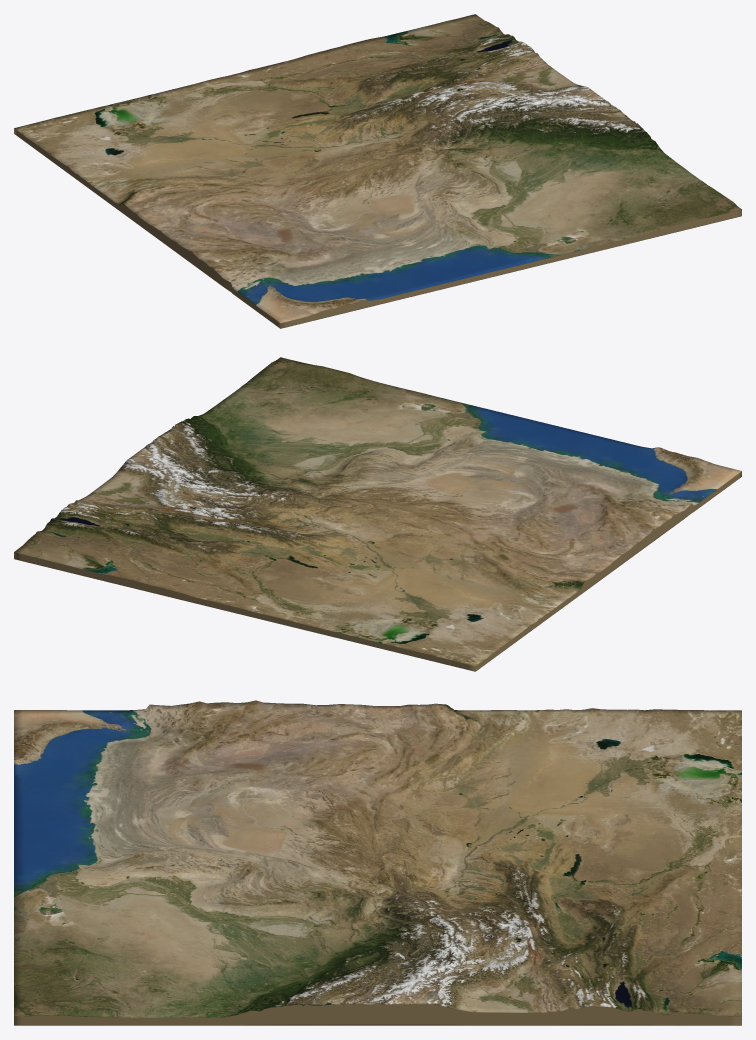
File: afganistan-web.glb
The picture shows the model from 3 angles, top to bottom: view 1: azimuth 30°, elevation 25°; view 2: azimuth 150°, elevation 25°; view 3: azimuth 270°, elevation 25°; orthographic projection. The views are drawn at different scales.
Parts seen in each view (by area): view 1: Afganistan_3D_Map_model; view 2: Afganistan_3D_Map_model; view 3: Afganistan_3D_Map_model.
Part boxes in pixels (x1=…): Afganistan_3D_Map_model: x1=14, y1=14, x2=741, y2=328; Afganistan_3D_Map_model: x1=14, y1=357, x2=741, y2=671; Afganistan_3D_Map_model: x1=14, y1=700, x2=741, y2=1025.
Bounding box in the file's own units: 4000 × 142 × 4000.
1 material, 1 textured.
